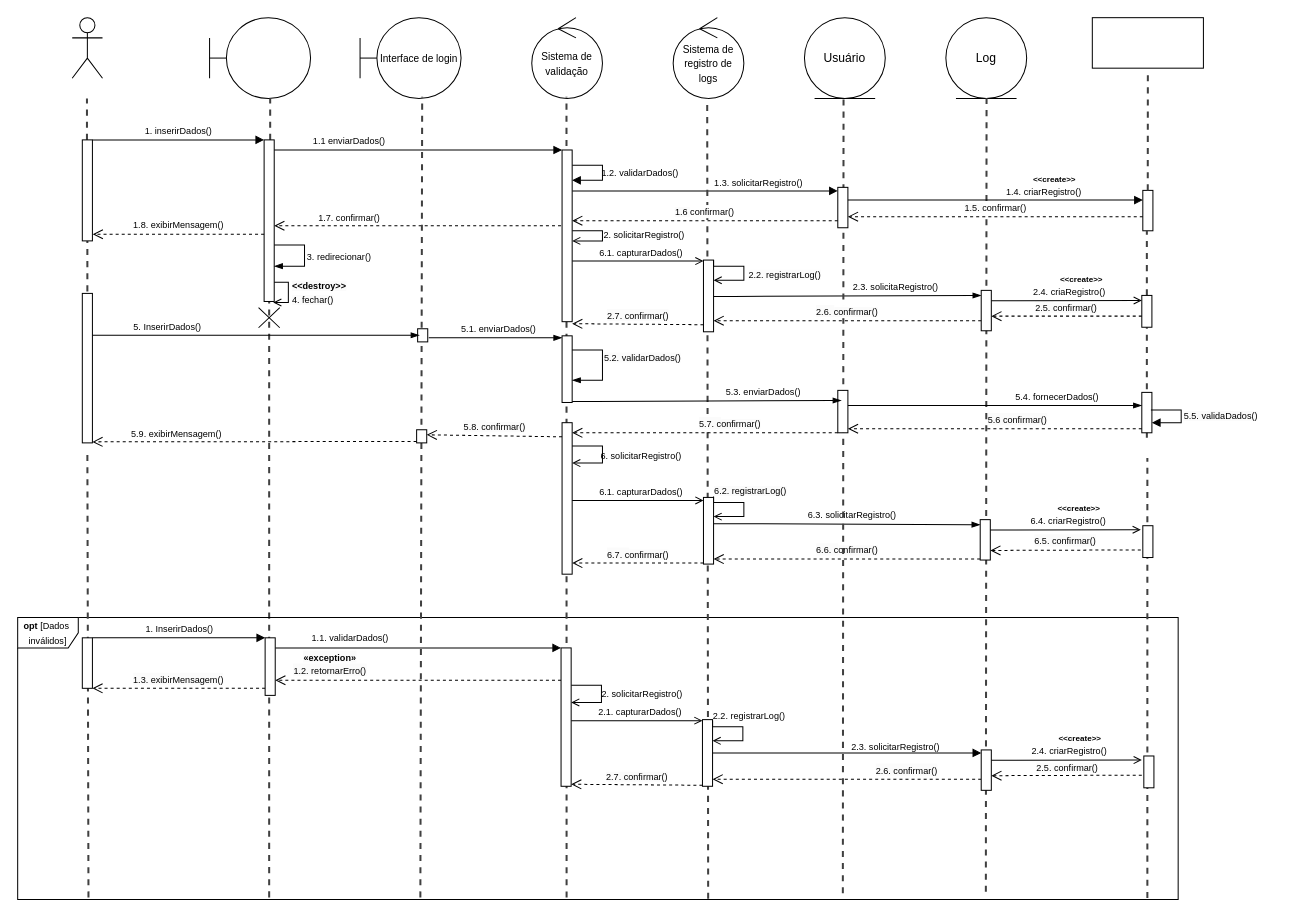
Some shapes in this 1291 by 918 pixel diagram are drawn without their labels. The centre of each missing label's shape, as x and y in pixels:
"Banco de dados" goes at pixel 1147 42.
"Interface de cadastro" goes at pixel 260 57.
"Usuário não cadastrado" goes at pixel 87 47.
